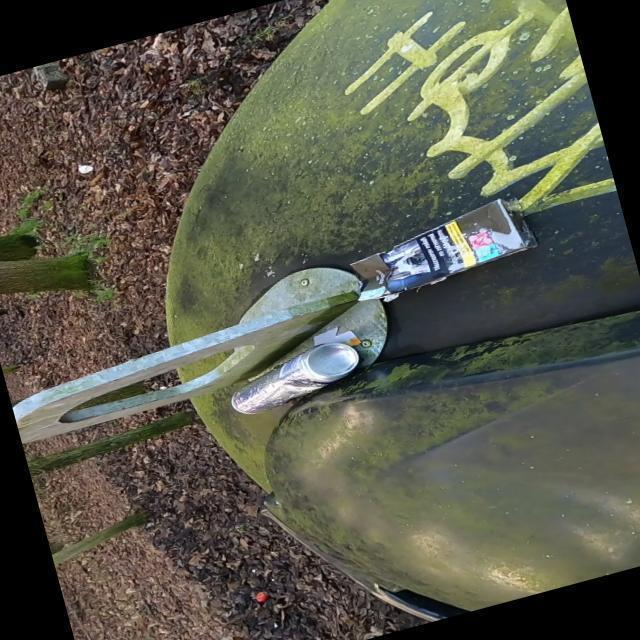Can-Metal: (230, 340, 362, 416)
Paper: (348, 194, 540, 304), (78, 163, 94, 174)
Plastic: (313, 325, 362, 348)
